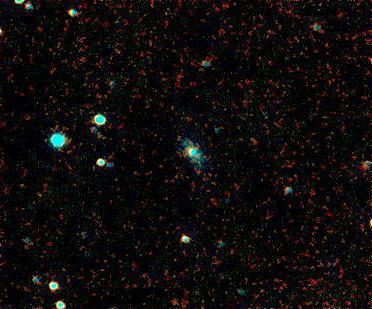star: (352, 206, 372, 236)
